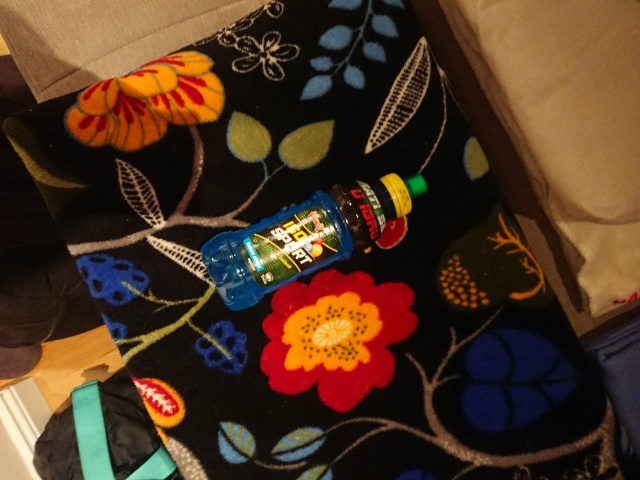Vindi Iso Sport Forest Strawberries 500mL: (199, 169, 430, 314)
